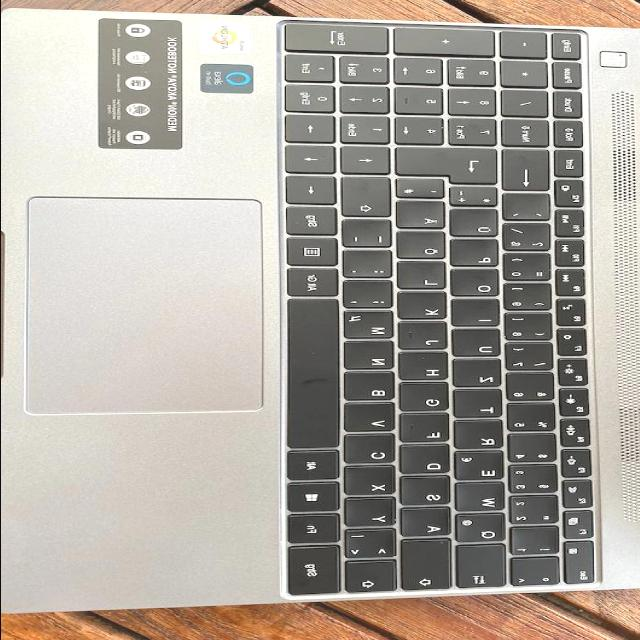0: (507, 256, 557, 284)
1: (512, 529, 564, 557)
2: (513, 497, 563, 527)
3: (511, 466, 563, 497)
4: (511, 436, 563, 465)
5: (510, 406, 560, 435)
6: (509, 375, 559, 404)
7: (508, 345, 558, 373)
8: (507, 315, 557, 343)
9: (507, 286, 557, 314)
a: (404, 511, 457, 540)
accent: (506, 196, 556, 224)
ae: (400, 204, 450, 232)
alt-left: (289, 453, 345, 483)
altgr-right: (290, 270, 344, 300)
b: (348, 375, 401, 405)
c: (347, 437, 401, 467)
caret: (514, 561, 564, 589)
comma: (346, 283, 399, 311)
d: (402, 448, 455, 477)
del: (505, 152, 555, 194)
e: (458, 454, 510, 483)
enter: (399, 150, 504, 186)
f: (404, 417, 456, 445)
g: (402, 386, 454, 414)
h: (403, 355, 453, 383)
hash: (399, 181, 451, 201)
i: (455, 302, 505, 329)
j: (401, 325, 453, 353)
k: (401, 295, 453, 322)
keyboard: (277, 22, 608, 602)
l: (402, 265, 452, 292)
less: (347, 532, 403, 562)
m: (347, 314, 399, 342)
minus: (346, 223, 398, 251)
n: (347, 345, 400, 373)
o: (453, 272, 505, 300)
oe: (400, 235, 450, 263)
p: (453, 242, 503, 270)
plus: (453, 189, 503, 209)
point: (347, 253, 399, 281)
q: (458, 516, 511, 546)
r: (457, 423, 509, 452)
s: (404, 480, 457, 509)
shift-left: (348, 564, 402, 597)
shift-lock: (404, 542, 457, 594)
shift-right: (344, 180, 397, 220)
space: (289, 301, 346, 451)
ss: (506, 227, 556, 254)
strg-left: (289, 548, 346, 600)
strg-right: (289, 209, 342, 239)
t: (457, 393, 509, 421)
tab: (459, 549, 512, 591)
u: (454, 332, 506, 360)
ue: (453, 212, 503, 240)
v: (348, 406, 401, 434)
w: (458, 486, 512, 515)
x: (347, 469, 401, 498)
y: (347, 500, 401, 530)
z: (455, 361, 507, 389)
